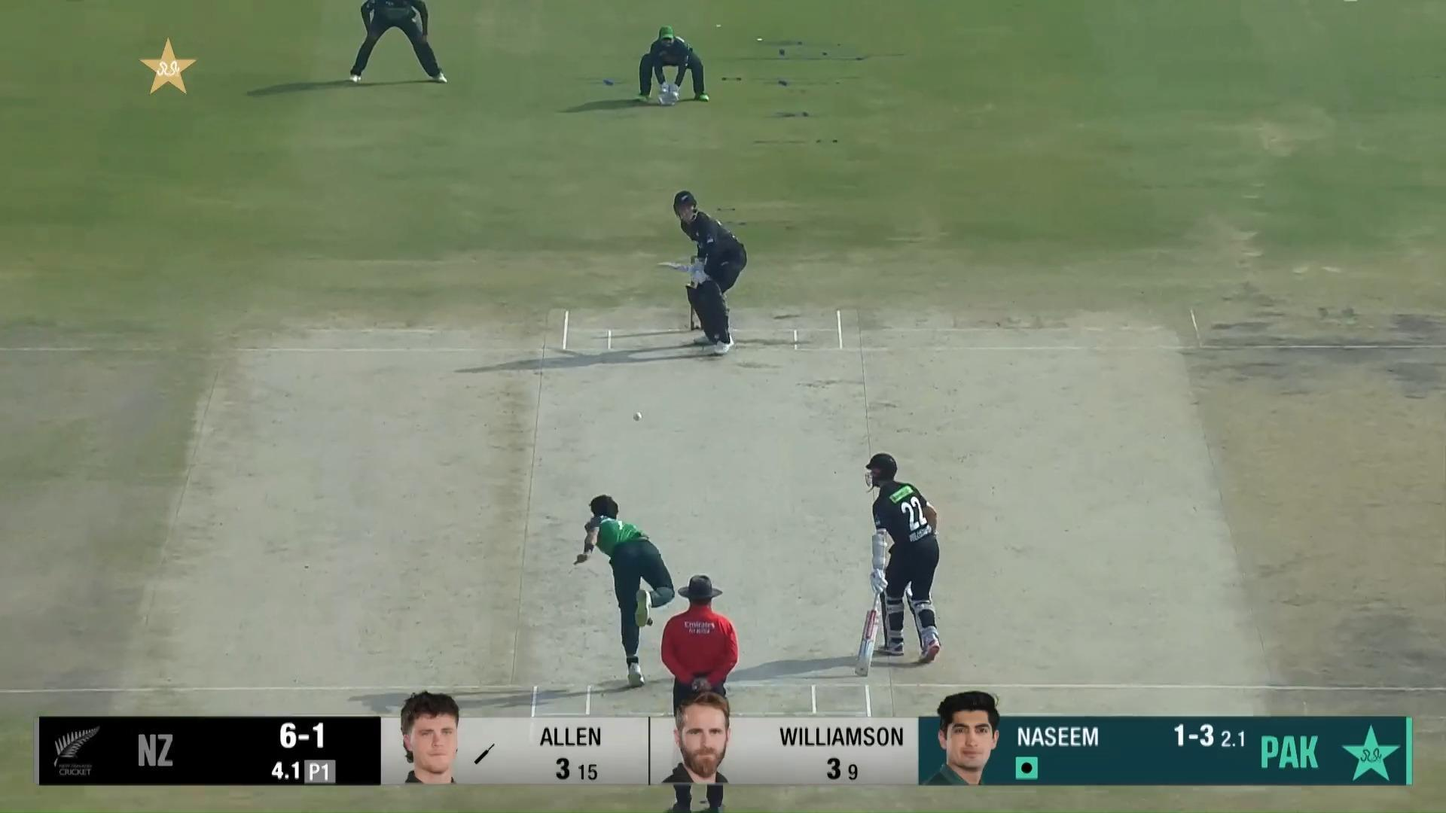BM 1: (659, 189, 748, 356)
BO: (574, 494, 675, 687)
